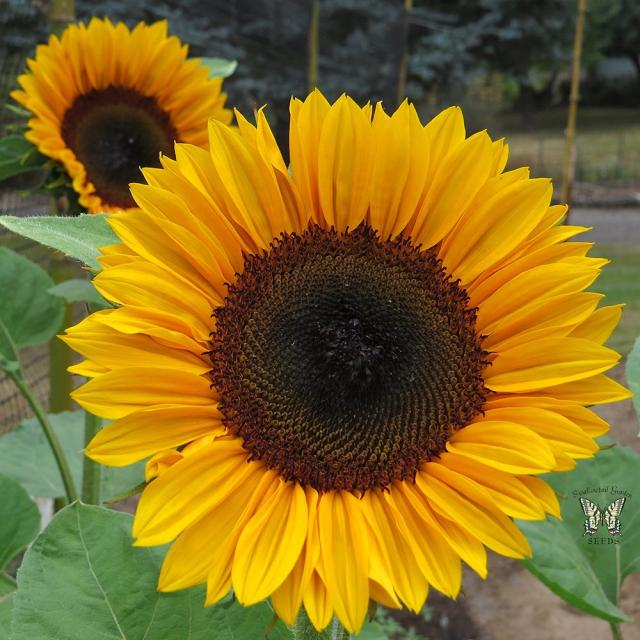sunflower: (77, 97, 631, 639), (22, 15, 235, 242)
